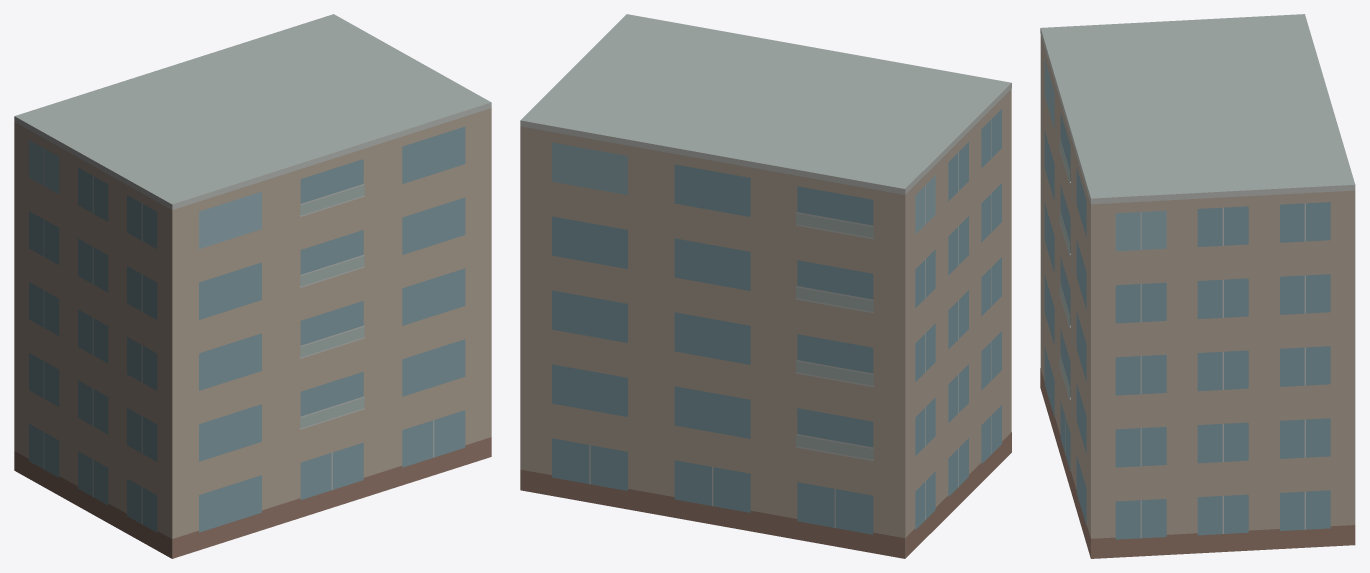
File: survey-upis-32985970.glb
3 views of the same model, side by side, from view 1: azimuth 30°, elevation 25°; view 2: azimuth 150°, elevation 25°; view 3: azimuth 270°, elevation 25° (orthographic). The views are drawn at different scales.
Parts seen in each view (by area): view 1: survey-upis-32985970.tmp; view 2: survey-upis-32985970.tmp; view 3: survey-upis-32985970.tmp.
Boxes of the visible parts, <box> form: survey-upis-32985970.tmp: <box>14,14,491,558</box>; survey-upis-32985970.tmp: <box>520,14,1011,558</box>; survey-upis-32985970.tmp: <box>1040,14,1355,558</box>.
Bounding box in the file's own units: 16.76 × 15.25 × 12.08.
